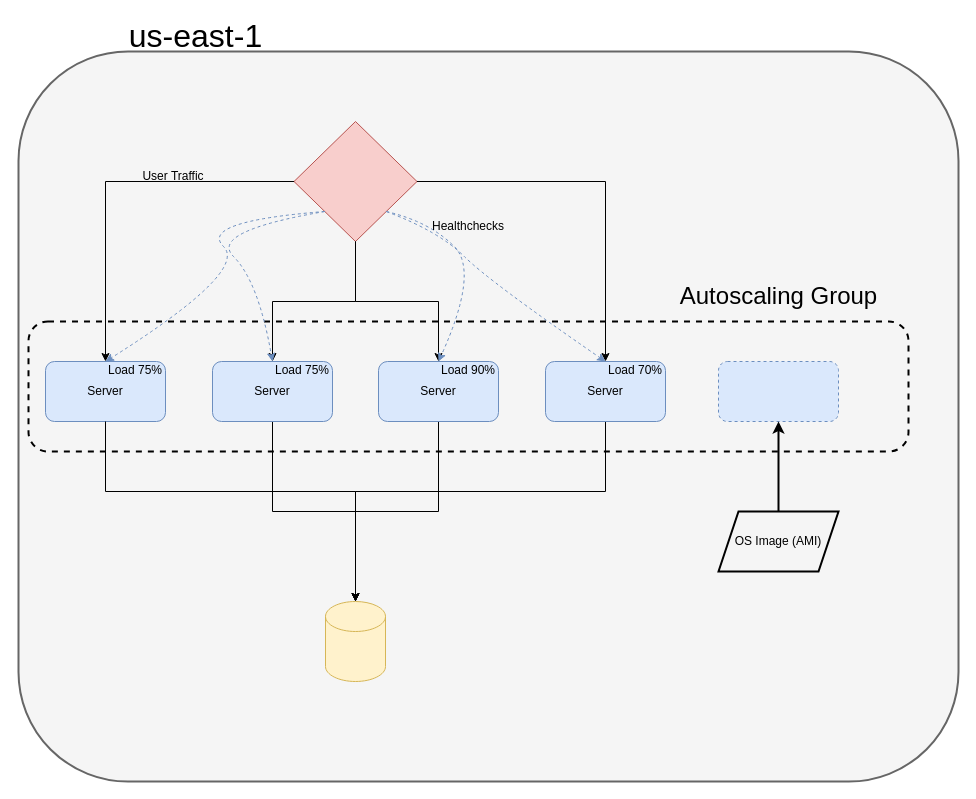
The diagram is 976 pixels wide and 799 high, and some of its shapes have lost their labels. The centre of each missing label's shape, as x and y in pixels:
DB: pixel 355 641
Loadbalancer: pixel 355 181
Server (Starting...): pixel 778 391
